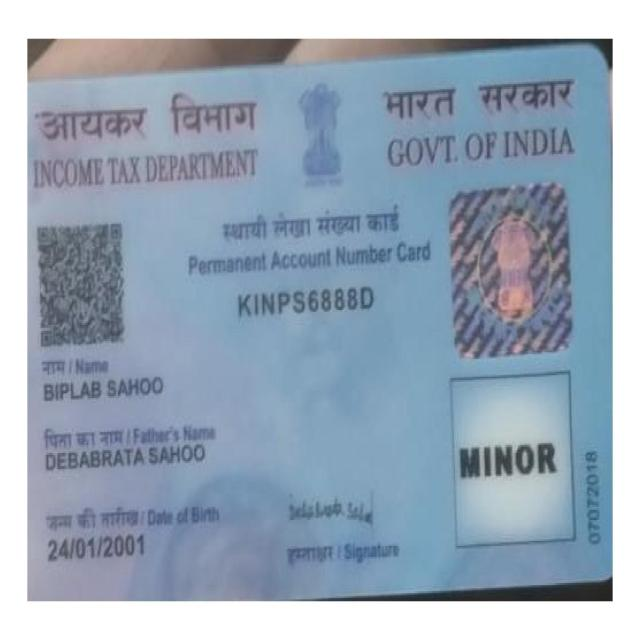pan_card: (25, 53, 609, 599)
